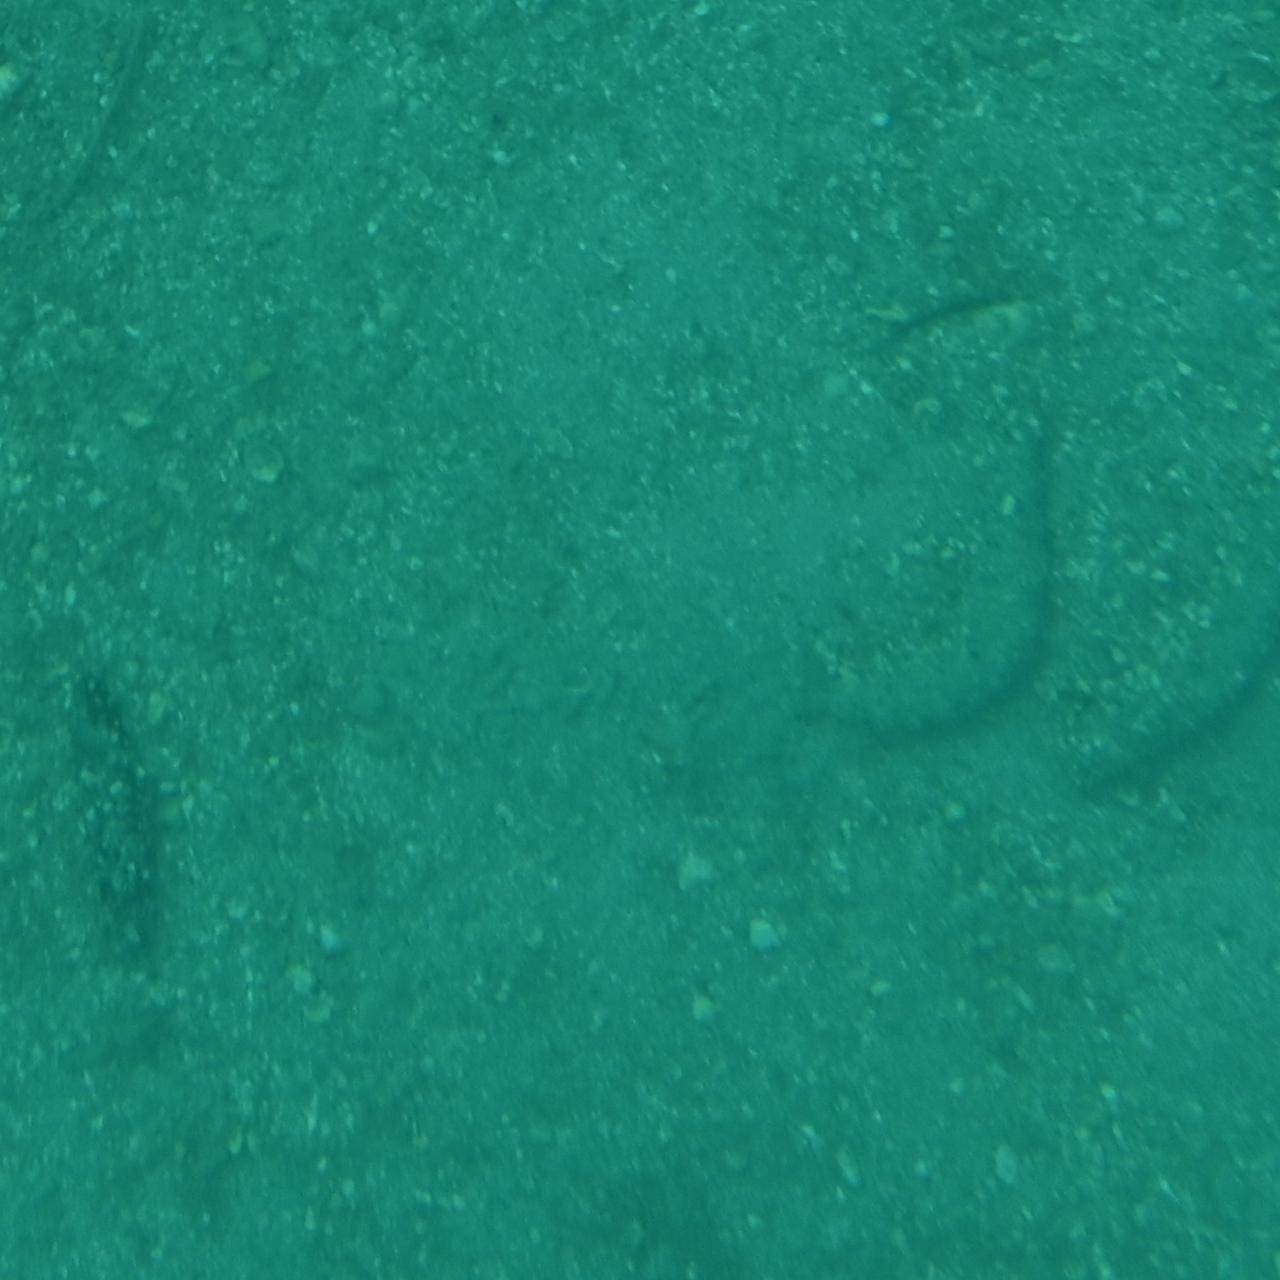Holothuria tubulosa: (830, 410, 1075, 765), (1063, 461, 1280, 809), (0, 665, 150, 1095)
